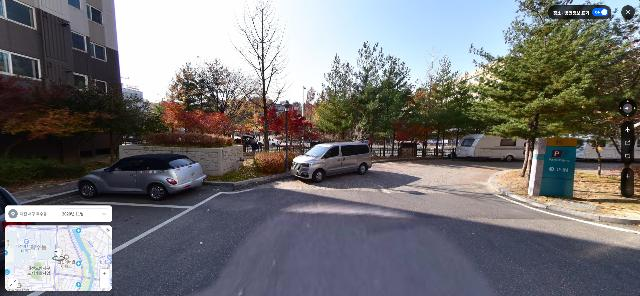other: (456, 0, 640, 180), (0, 73, 148, 166), (312, 39, 418, 159), (227, 0, 294, 153), (154, 60, 259, 141), (413, 59, 472, 159)
